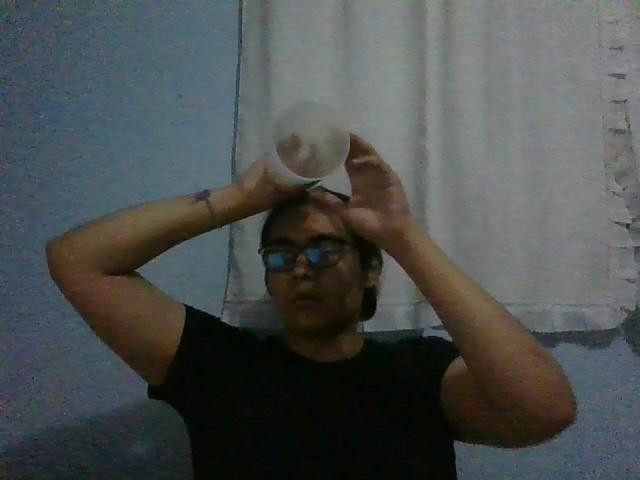vaso: (265, 100, 350, 187)
